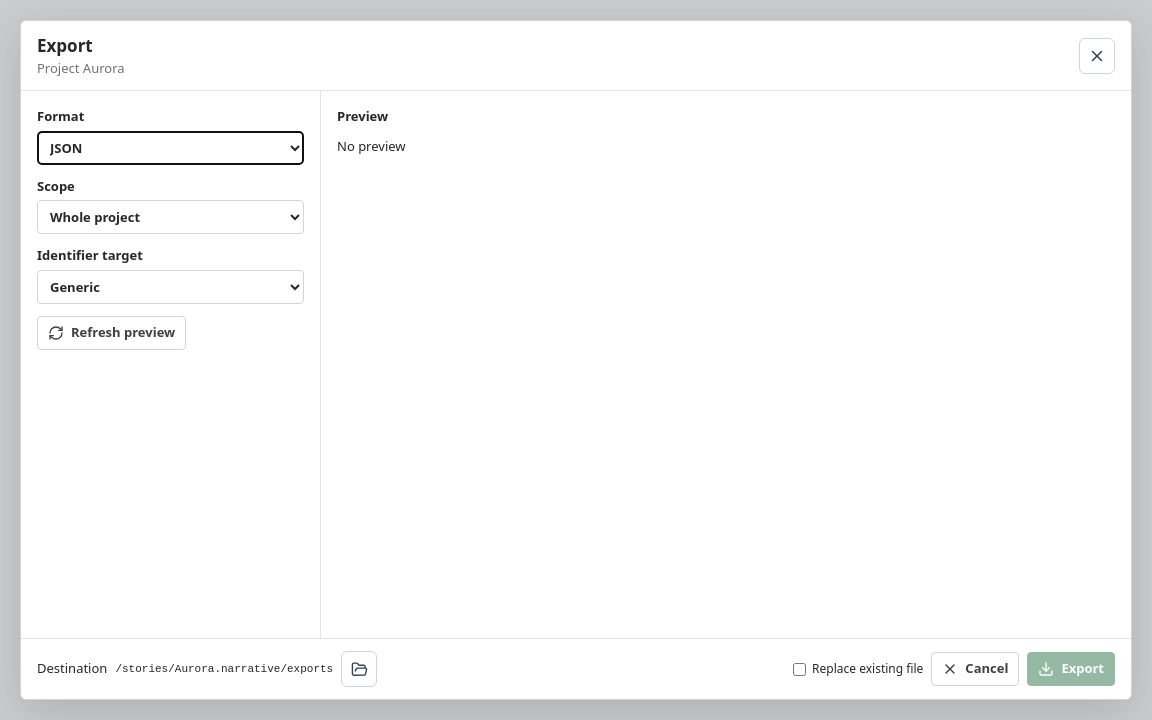
Test: ExportWorkspace › filters long flow names without losing selection and invalidates changed options
The width and height of the screenshot is (1152, 720).
Select "Selected Story Flows" in the dropdown labelled "Scope" at (170, 217), box [37, 200, 304, 234]
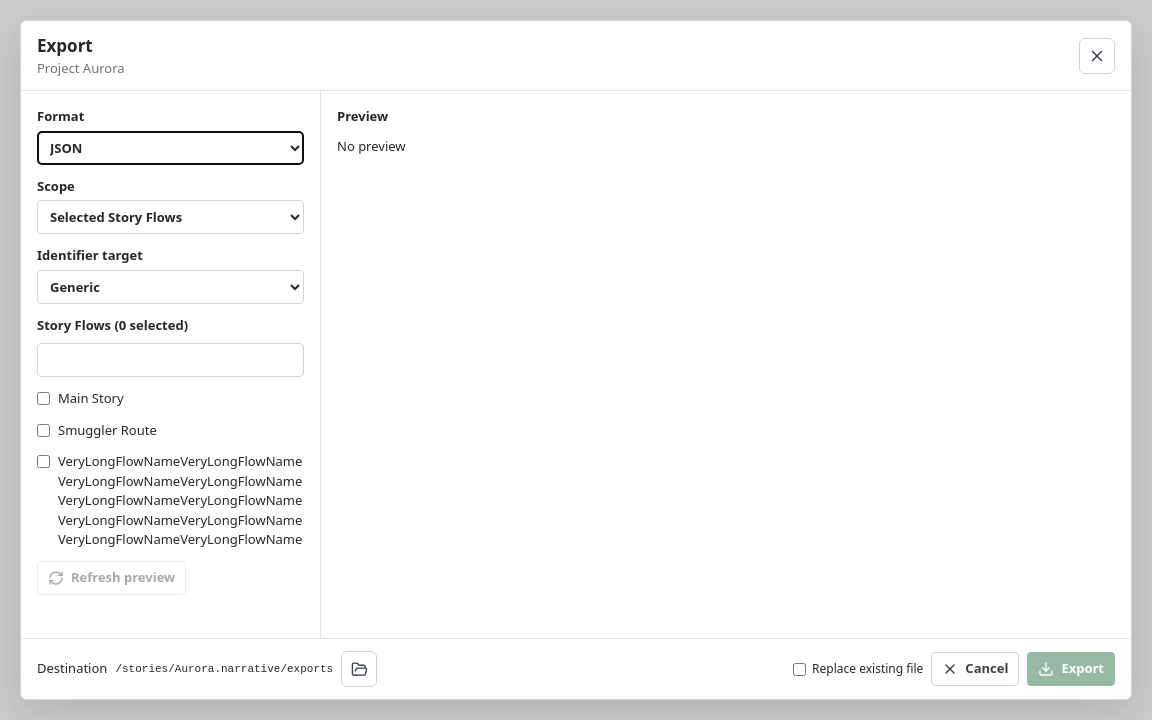
expect the button "Refresh preview" is disabled: met, box [37, 561, 186, 595]
Click the checkbox labelled "Main Story" at (44, 398), box [37, 392, 50, 405]
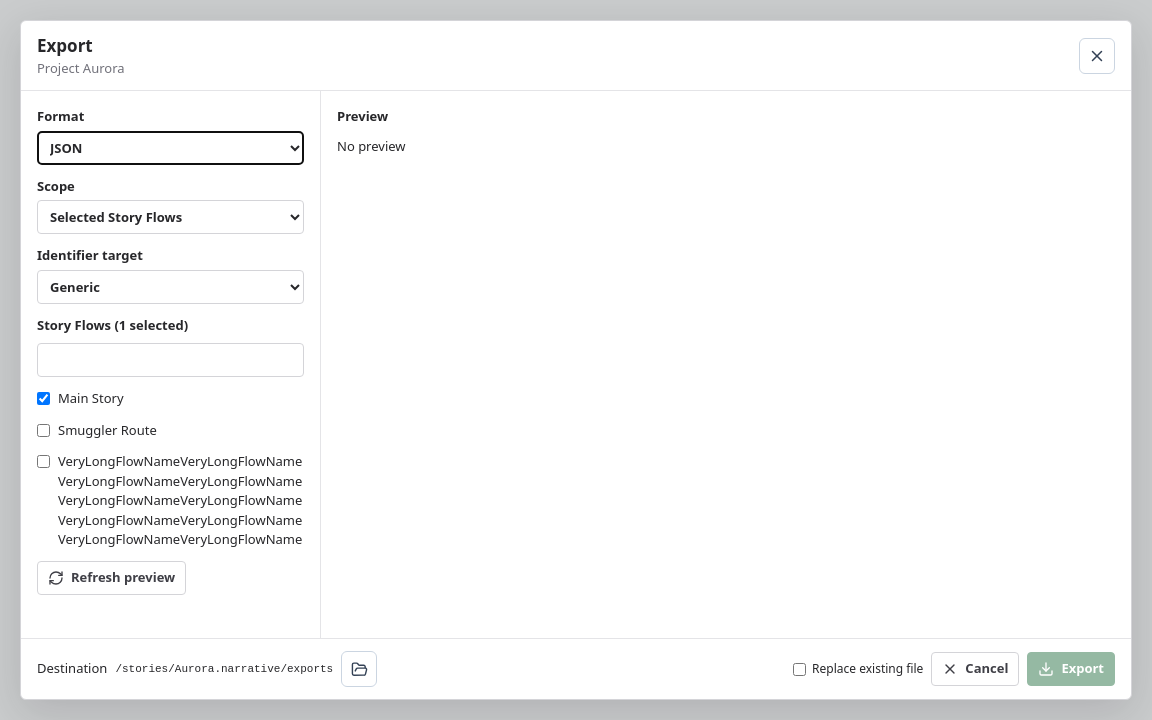
Type "harbor" into the search field named "Search Story Flows" at (170, 360), box [37, 343, 304, 377]
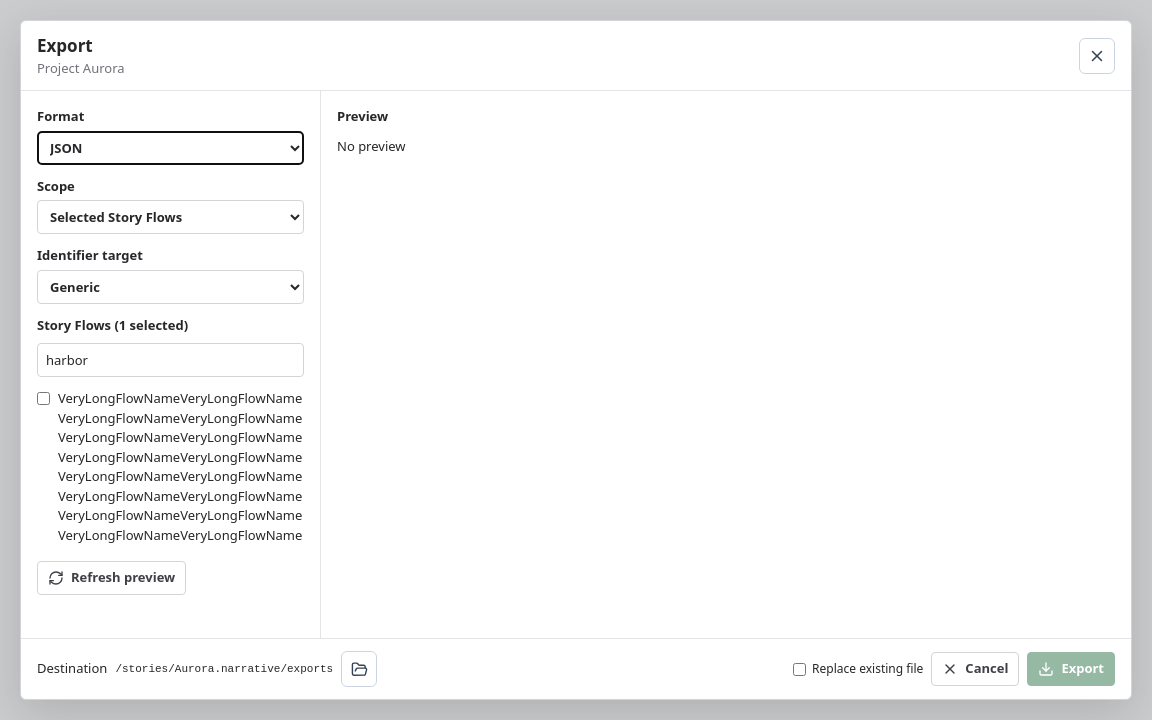
expect the text labelled "Main Story" is gone: met
Click the 1st checkbox at (44, 398), box [37, 392, 50, 405]
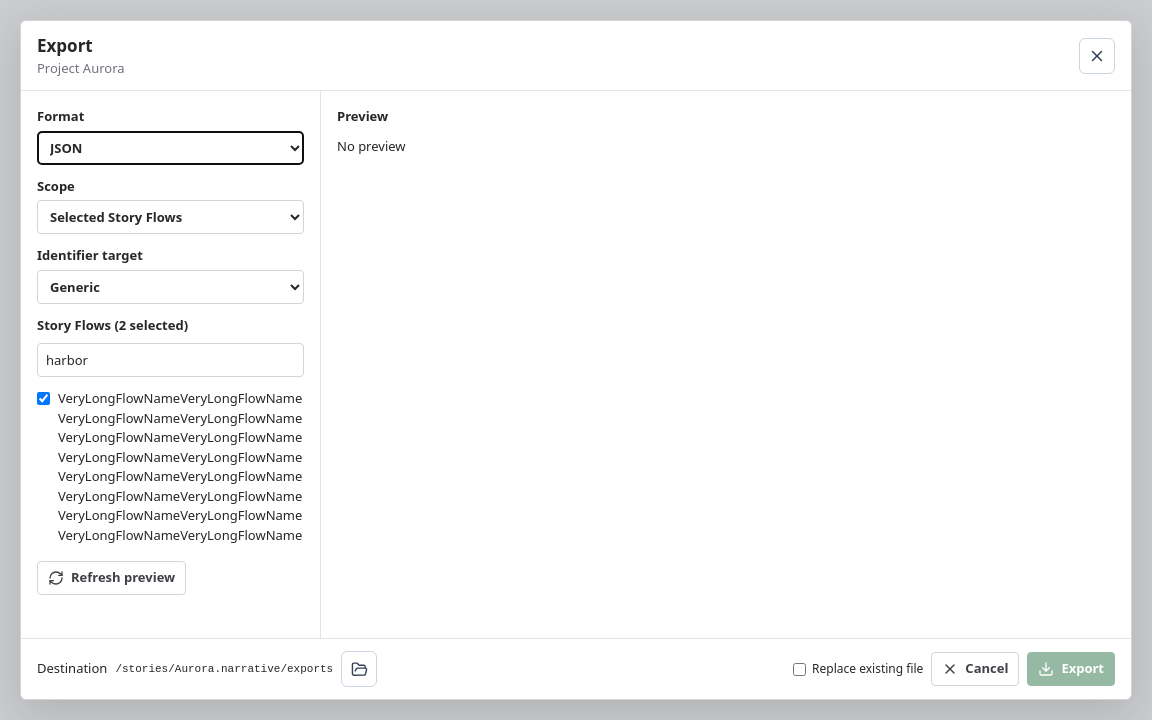
Click the button "Refresh preview" at (112, 578), box [37, 561, 186, 595]
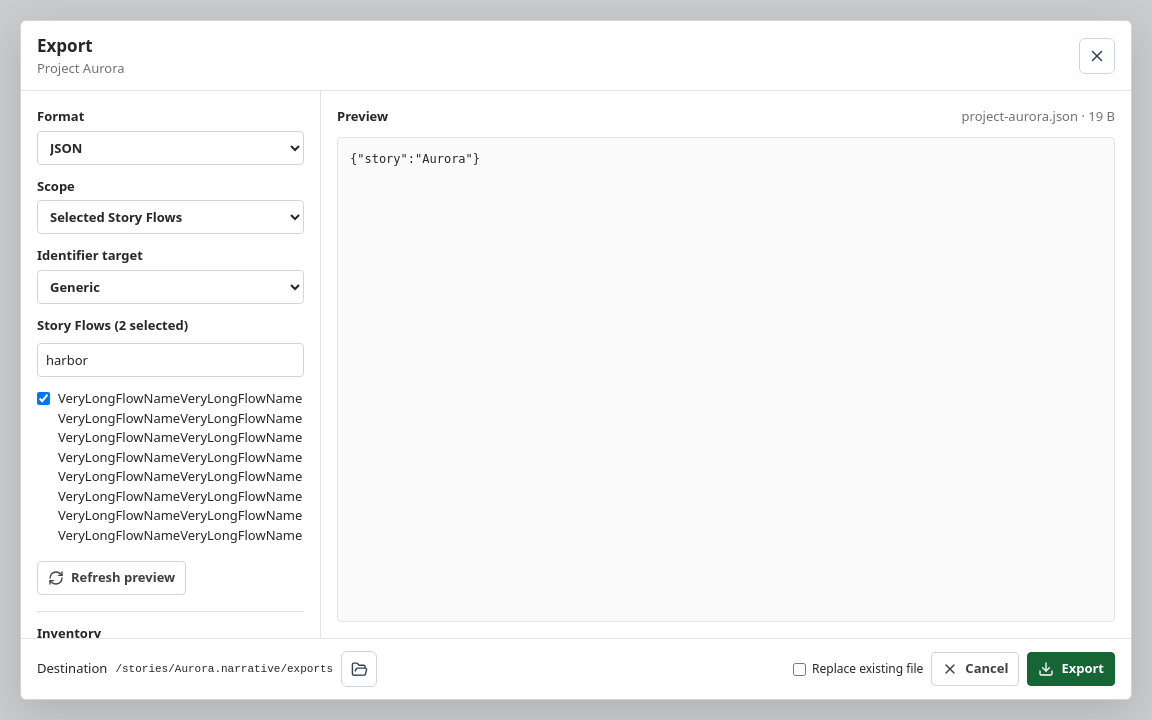
Select "YAML" in the dropdown labelled "Format" at (170, 148), box [37, 130, 304, 164]
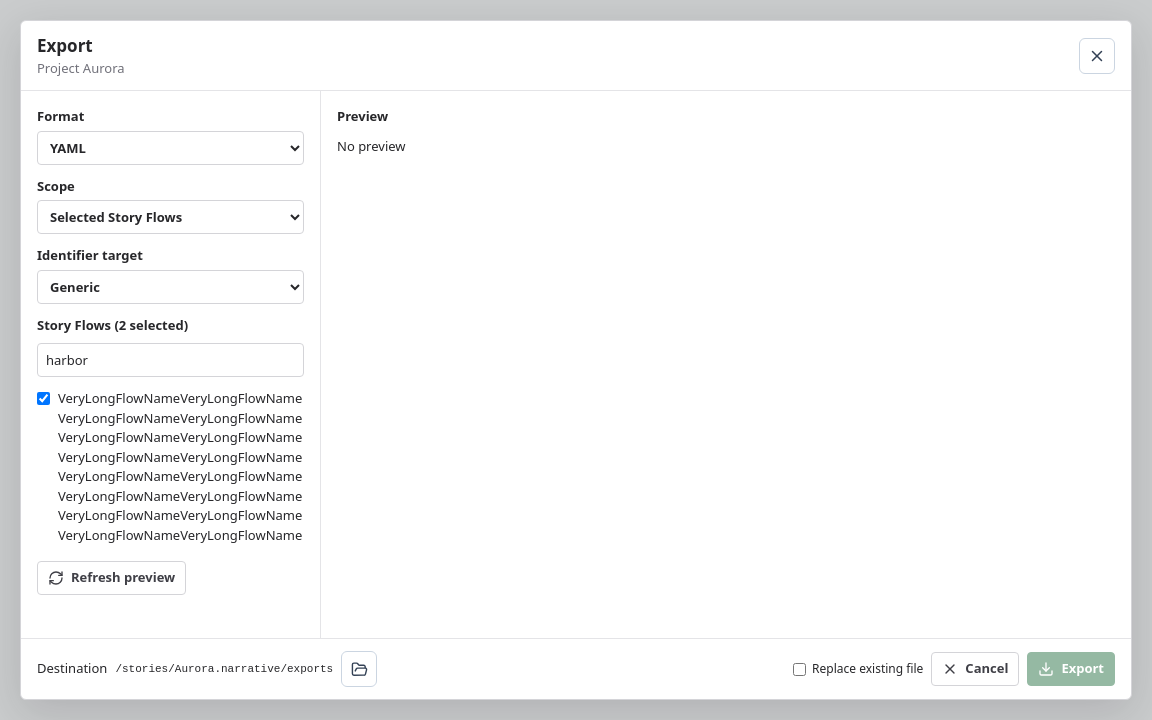
expect the button "Export" is disabled: met, box [1027, 652, 1115, 686]
